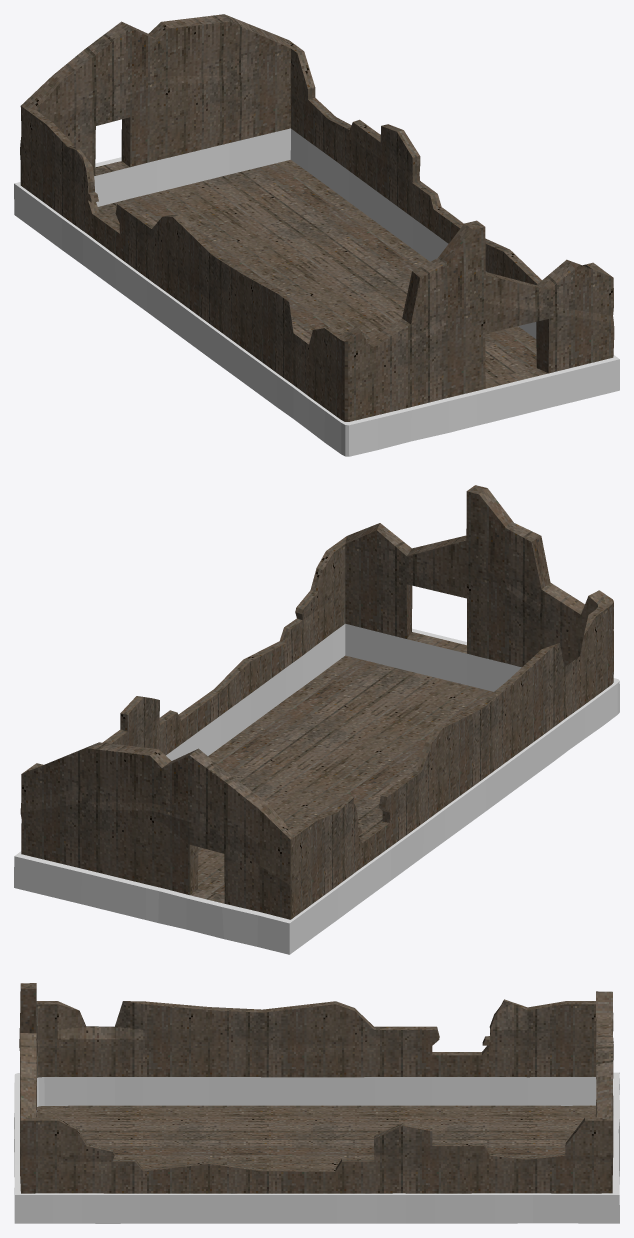
File: GD 3D Home Ruined.fbx
3 renders of one model, top to bottom at view 1: azimuth 30°, elevation 25°; view 2: azimuth 150°, elevation 25°; view 3: azimuth 270°, elevation 25°, orthographic. The views are drawn at different scales.
Visible parts, largest first — view 1: Home Ruin 2 IVG wood; view 2: Home Ruin 2 IVG wood; view 3: Home Ruin 2 IVG wood.
Boxes of the visible parts, bbox=[...] form: Home Ruin 2 IVG wood: bbox=[14, 14, 619, 456]; Home Ruin 2 IVG wood: bbox=[14, 485, 619, 954]; Home Ruin 2 IVG wood: bbox=[14, 983, 619, 1223].
Bounding box in the file's own units: 748 × 501 × 1559.
